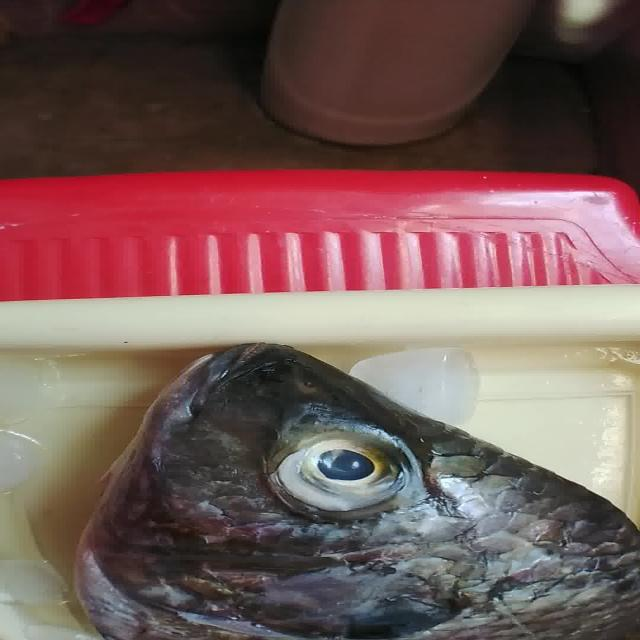Fresh: (219, 416, 484, 524)
